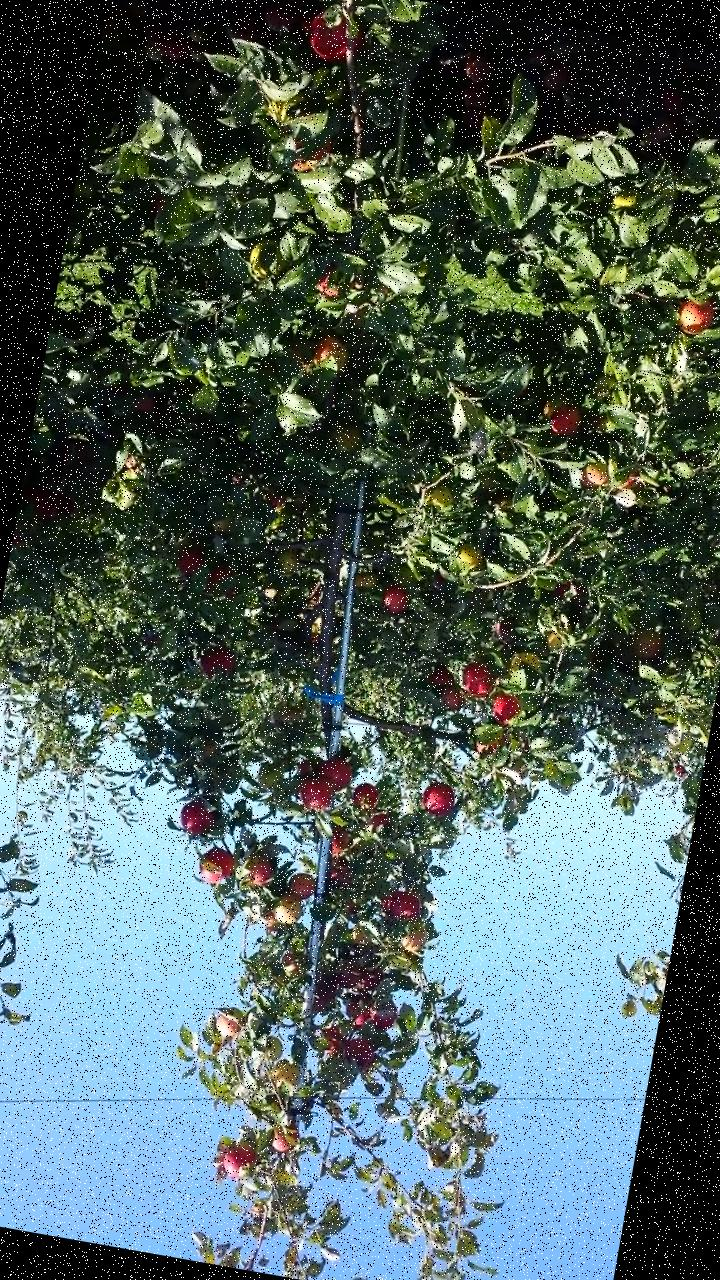Apple: (304, 5, 368, 67), (286, 132, 333, 179), (310, 753, 354, 795), (310, 331, 352, 374), (241, 237, 282, 280), (316, 258, 354, 304), (196, 843, 235, 886), (295, 776, 336, 814), (380, 890, 424, 924), (199, 644, 238, 682), (676, 300, 714, 339), (212, 1004, 250, 1042), (178, 800, 216, 838), (340, 1037, 380, 1073), (308, 971, 340, 1016), (394, 920, 434, 956), (420, 780, 456, 819), (366, 995, 401, 1034), (548, 404, 582, 441), (270, 893, 305, 928), (459, 664, 494, 699), (346, 964, 383, 996), (268, 1122, 301, 1156), (631, 630, 664, 664), (221, 1146, 256, 1178), (267, 1058, 304, 1088), (508, 650, 544, 680), (421, 483, 457, 513), (240, 854, 273, 886), (580, 460, 613, 492), (553, 578, 590, 606), (453, 542, 486, 572), (284, 872, 316, 902), (320, 1026, 348, 1060), (27, 494, 61, 522), (341, 997, 370, 1029), (255, 762, 284, 794), (491, 696, 520, 728), (278, 950, 306, 981), (331, 424, 361, 452), (473, 734, 507, 758), (330, 964, 360, 990), (272, 549, 300, 576), (382, 588, 408, 616), (354, 784, 378, 813), (441, 685, 467, 711), (175, 550, 201, 576), (540, 397, 567, 422), (619, 465, 642, 494), (427, 666, 453, 691), (354, 568, 380, 593), (204, 566, 233, 588), (330, 865, 355, 890), (260, 1036, 284, 1062), (258, 908, 282, 932), (495, 616, 519, 640), (330, 828, 350, 856), (369, 812, 389, 836), (298, 758, 318, 781), (305, 580, 322, 603), (199, 741, 218, 761), (134, 396, 154, 414), (151, 196, 165, 221), (349, 924, 367, 942), (343, 898, 358, 916)
